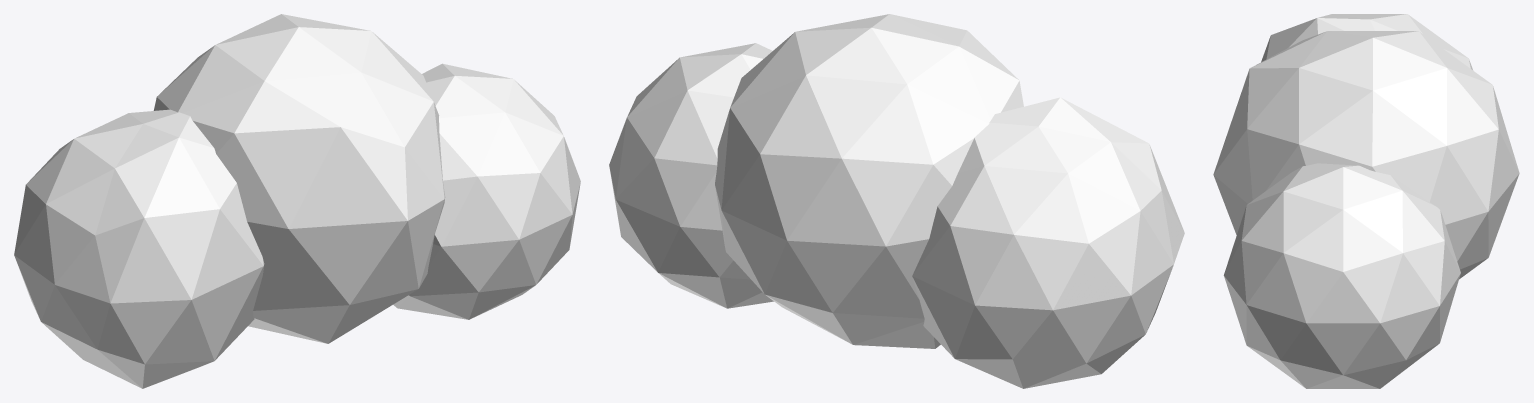
The model's file is Cloud1_tex.fbx.
The picture shows the model from 3 angles, left to right: view 1: azimuth 30°, elevation 25°; view 2: azimuth 150°, elevation 25°; view 3: azimuth 270°, elevation 25°; orthographic projection. The views are drawn at different scales.
Parts seen in each view (by area): view 1: Cloud1_tex; view 2: Cloud1_tex; view 3: Cloud1_tex.
Part boxes in pixels (x1=…): Cloud1_tex: x1=14, y1=14, x2=580, y2=388; Cloud1_tex: x1=609, y1=14, x2=1184, y2=388; Cloud1_tex: x1=1213, y1=14, x2=1519, y2=388.
Bounding box in the file's own units: 3.94 × 2.24 × 2.2.
